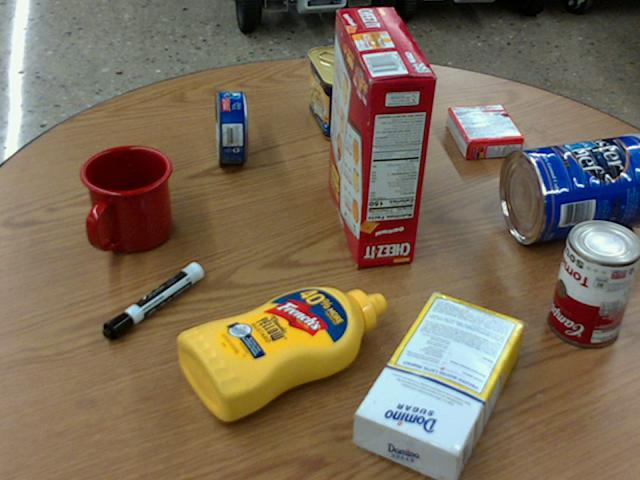cracker_box: (327, 6, 435, 266)
gelatin_box: (446, 104, 523, 159)
large_marker: (101, 261, 202, 339)
master_chef_can: (499, 132, 639, 243)
mug: (79, 145, 172, 253)
mustard_bottle: (176, 285, 385, 422)
potted_meat_can: (306, 46, 367, 140)
sugar_box: (352, 291, 524, 479)
tomato_soup_can: (548, 217, 639, 344)
tuna_fish_can: (216, 90, 246, 162)
